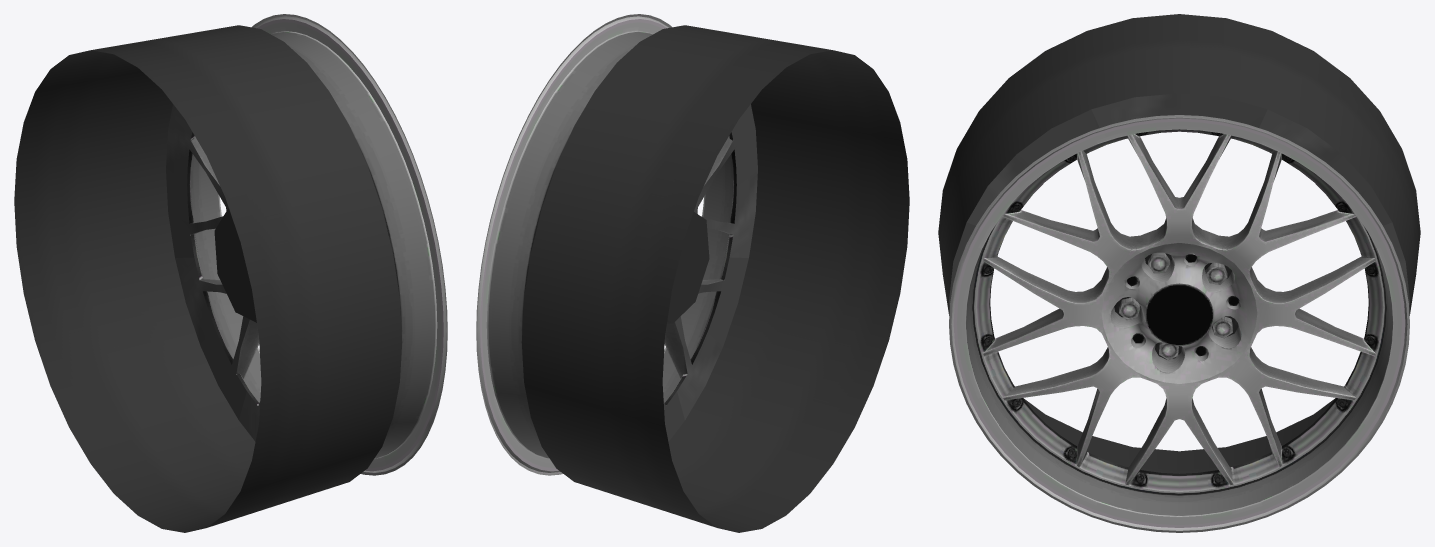
File: wheel16.fbx
The picture shows the model from 3 angles, left to right: view 1: azimuth 30°, elevation 25°; view 2: azimuth 150°, elevation 25°; view 3: azimuth 270°, elevation 25°; orthographic projection. The views are drawn at different scales.
Parts seen in each view (by area): view 1: bbs_rs_gt_wheel_wheel_inner_rim_, bbs_rs_gt_wheel_wheel_rim_, wheel_rim; view 2: bbs_rs_gt_wheel_wheel_inner_rim_, bbs_rs_gt_wheel_wheel_rim_, wheel_rim; view 3: bbs_rs_gt_wheel_wheel_inner_rim_, wheel_rim, bbs_rs_gt_wheel_wheel_rim_, bbs_rs_gt_wheel_wheel_chrome_rim_.
Boxes of the visible parts, left/top/right/bottom form: bbs_rs_gt_wheel_wheel_inner_rim_: left=14, top=25, right=402, bottom=532; bbs_rs_gt_wheel_wheel_rim_: left=187, top=14, right=447, bottom=475; wheel_rim: left=187, top=15, right=447, bottom=464; bbs_rs_gt_wheel_wheel_inner_rim_: left=521, top=25, right=909, bottom=532; bbs_rs_gt_wheel_wheel_rim_: left=476, top=14, right=736, bottom=475; wheel_rim: left=476, top=15, right=736, bottom=464; bbs_rs_gt_wheel_wheel_inner_rim_: left=938, top=14, right=1420, bottom=473; wheel_rim: left=949, top=115, right=1409, bottom=532; bbs_rs_gt_wheel_wheel_rim_: left=967, top=115, right=1391, bottom=485; bbs_rs_gt_wheel_wheel_chrome_rim_: left=1119, top=252, right=1233, bottom=360.
Bounding box in the file's own units: 0.2258 × 0.5021 × 0.5021.
1 material, 1 textured.
